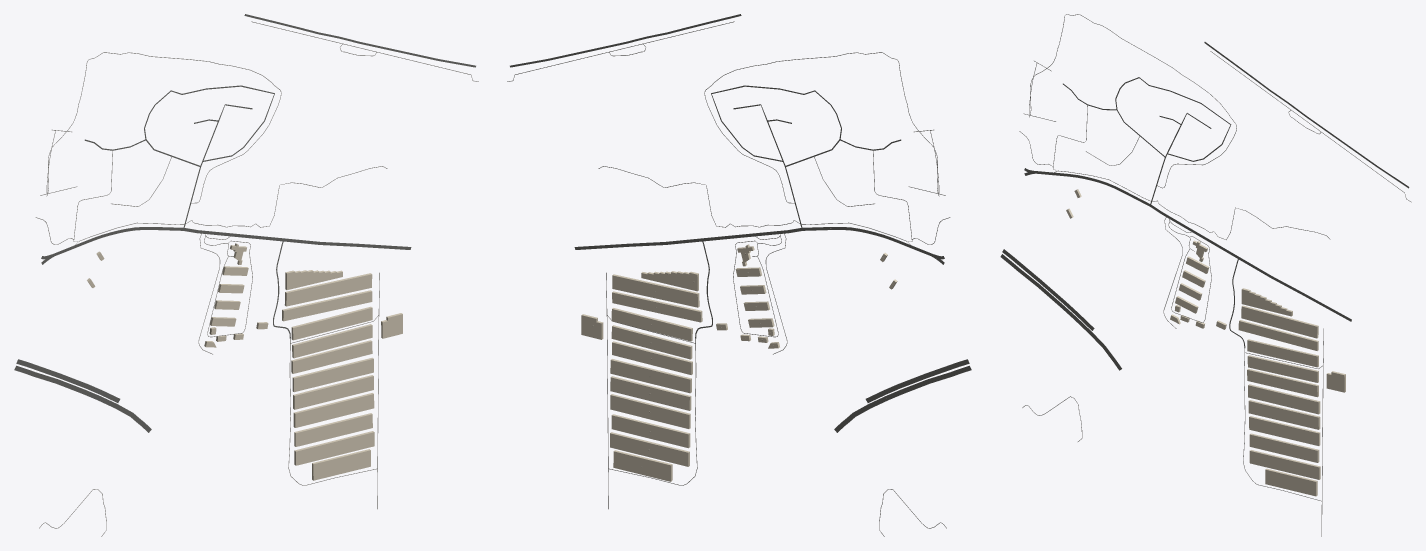
Rendered from historic-palestine-06_23_3477_3179.glb.
3 views of the same model, side by side, from view 1: azimuth 30°, elevation 25°; view 2: azimuth 150°, elevation 25°; view 3: azimuth 330°, elevation 25° (orthographic). The views are drawn at different scales.
Parts seen in each view (by area): view 1: Building_.014, Road 3933, Building_.021, Building_.023, Building_.019, Building_.020, Building_.022, Building_.018, Building_.017, Building_.016, Building_.015, Building_.024 (+6 smaller); view 2: Building_.014, Road 3933, Building_.021, Building_.020, Building_.023, Building_.019, Building_.022, Building_.017, Building_.018, Building_.016, Building_.015, Building_.024 (+6 smaller); view 3: Building_.014, Road 3933, Building_.021, Building_.023, Building_.020, Building_.019, Building_.022, Building_.018, Building_.017, Building_.016, Building_.015, Building_.024 (+4 smaller).
Part boxes in pixels (<box>): Building_.014: <box>284,273,372,306</box>; Road 3933: <box>54,227,411,255</box>; Building_.021: <box>293,393,374,427</box>; Building_.023: <box>294,431,374,465</box>; Building_.019: <box>292,357,373,392</box>; Building_.020: <box>293,375,373,409</box>; Building_.022: <box>294,413,372,446</box>; Building_.018: <box>291,340,372,373</box>; Building_.017: <box>292,324,372,358</box>; Building_.016: <box>291,306,372,340</box>; Building_.015: <box>282,290,372,321</box>; Building_.024: <box>312,449,370,480</box>; Building_.014: <box>612,274,699,307</box>; Road 3933: <box>574,227,931,255</box>; Building_.021: <box>610,394,690,428</box>; Building_.020: <box>610,376,691,410</box>; Building_.023: <box>610,432,689,466</box>; Building_.019: <box>610,359,691,393</box>; Building_.022: <box>611,414,690,448</box>; Building_.017: <box>611,325,692,359</box>; Building_.018: <box>612,341,692,374</box>; Building_.016: <box>611,308,692,341</box>; Building_.015: <box>612,291,702,322</box>; Building_.024: <box>613,450,672,481</box>; Building_.014: <box>1241,305,1318,338</box>; Road 3933: <box>1036,171,1351,321</box>; Building_.021: <box>1249,416,1320,445</box>; Building_.023: <box>1249,450,1320,479</box>; Building_.020: <box>1248,400,1320,429</box>; Building_.019: <box>1248,384,1320,414</box>; Building_.022: <box>1249,433,1319,462</box>; Building_.018: <box>1247,369,1318,397</box>; Building_.017: <box>1247,355,1318,382</box>; Building_.016: <box>1247,339,1318,367</box>; Building_.015: <box>1238,320,1318,350</box>; Building_.024: <box>1265,468,1317,496</box>.
Size of the model in its own units: 1285 by 1394 by 8.7.
